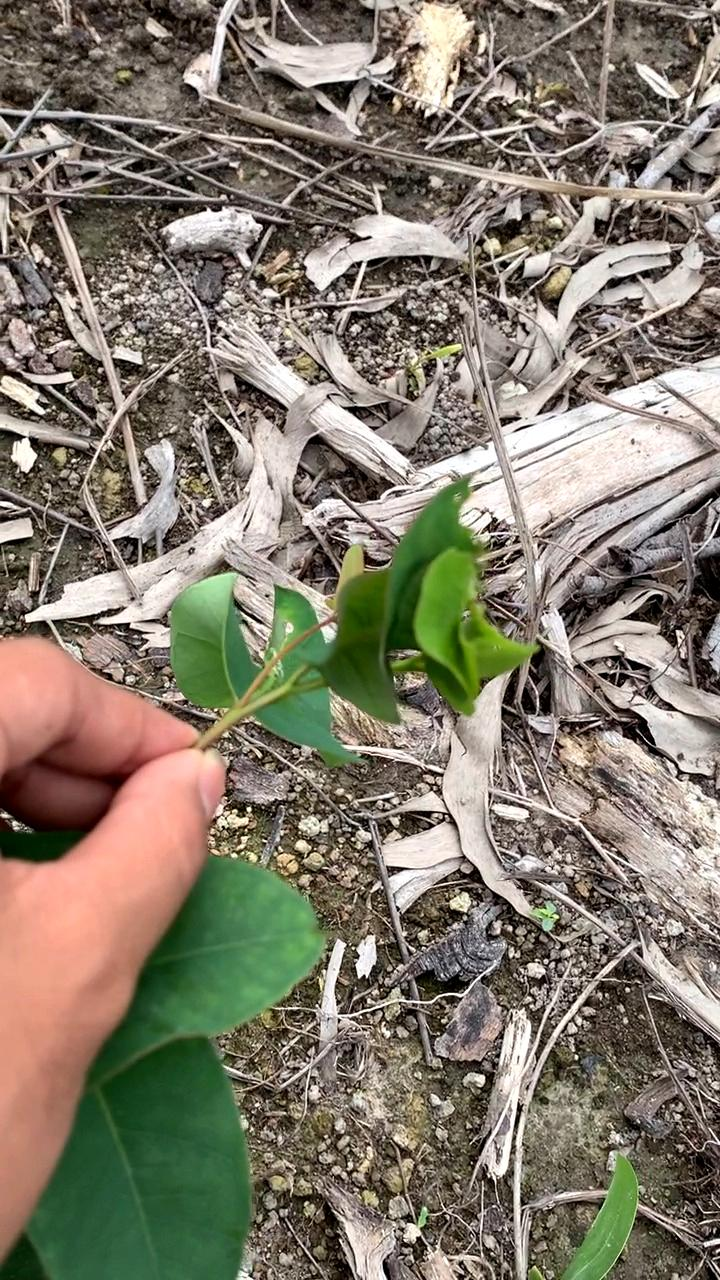Leaf Roller - Leaf: (326, 498, 545, 699)
